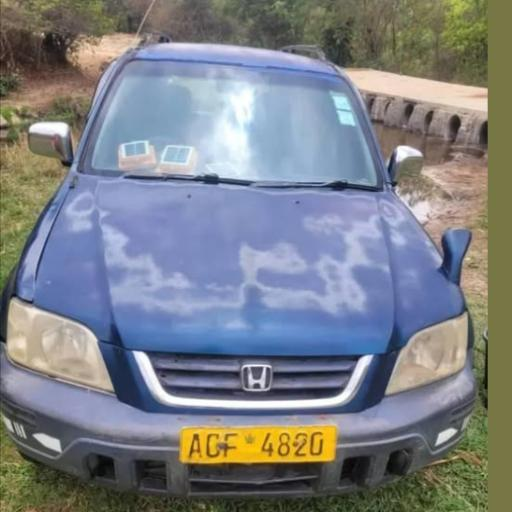number-plates: (179, 424, 335, 466)
